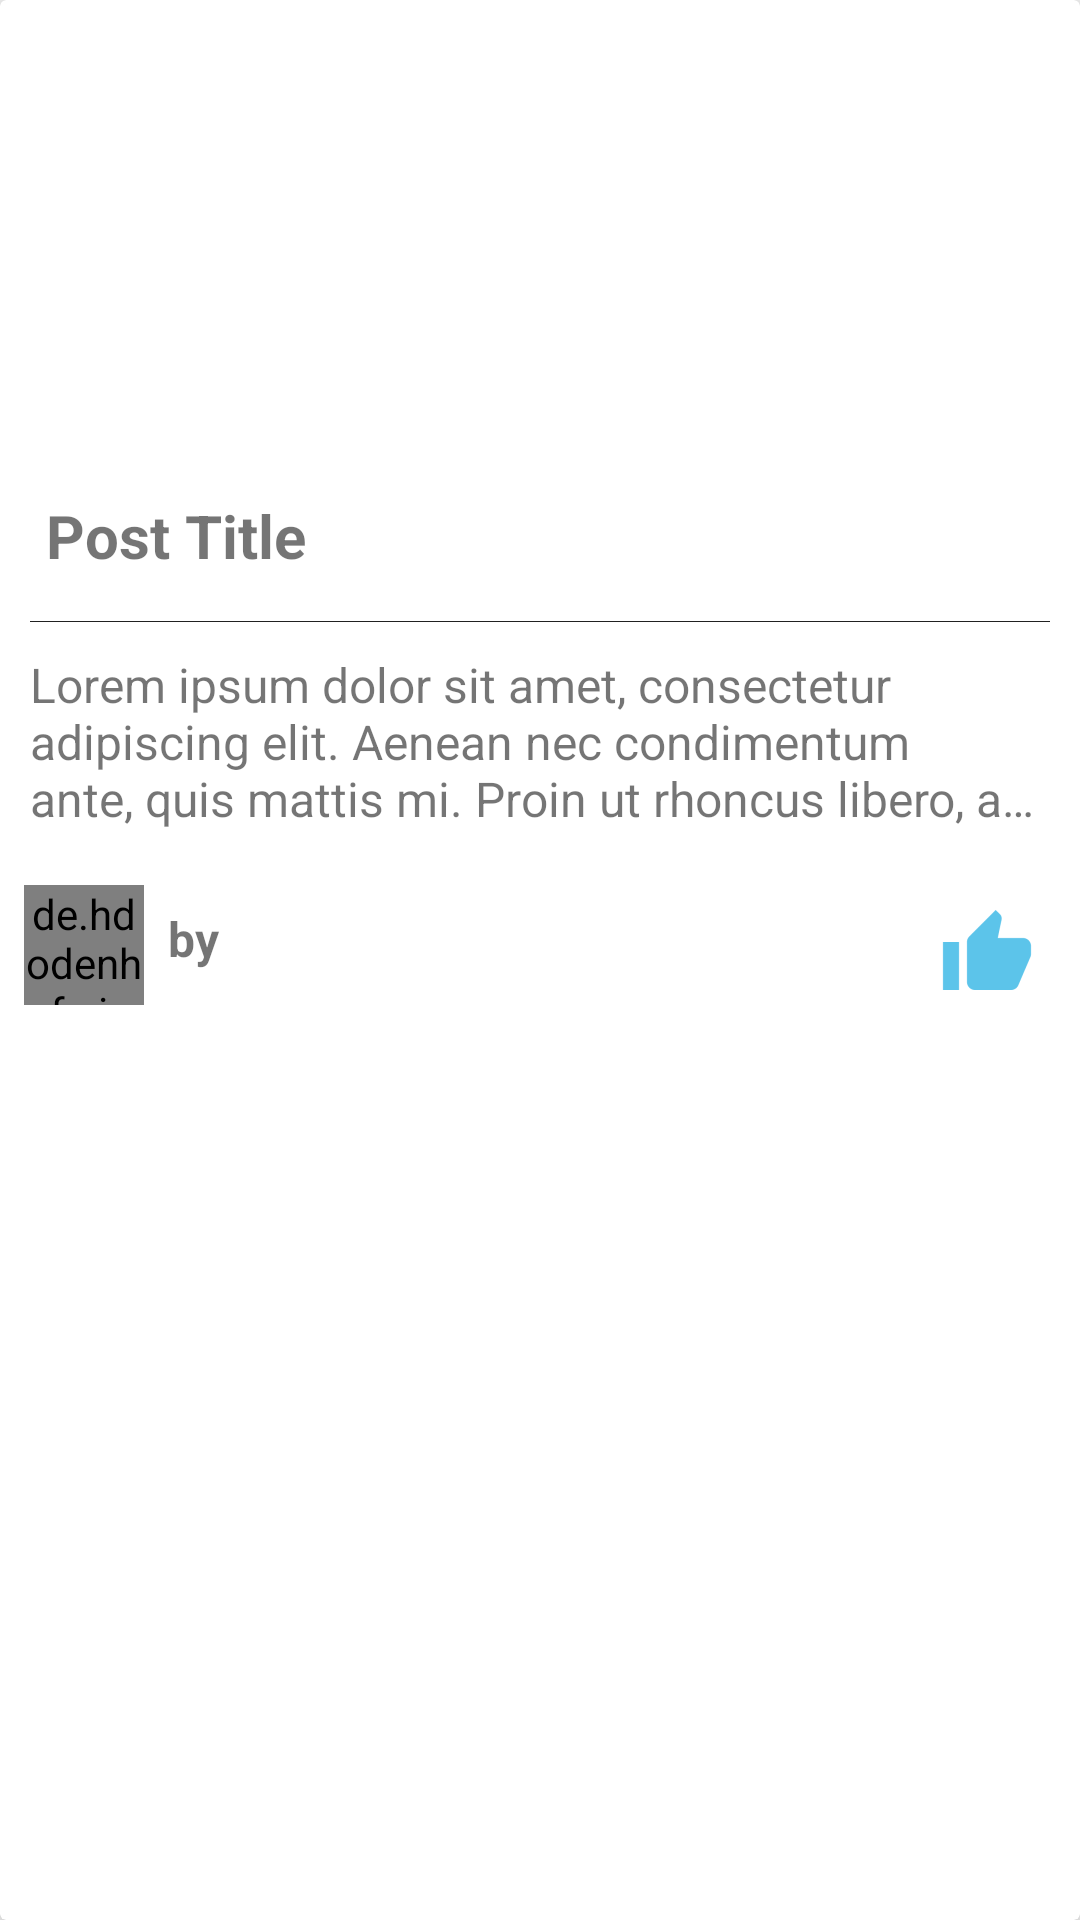

Icon click points for this 1080 × 1920 phone screenshot, format (x,y):
like: (987,950)
